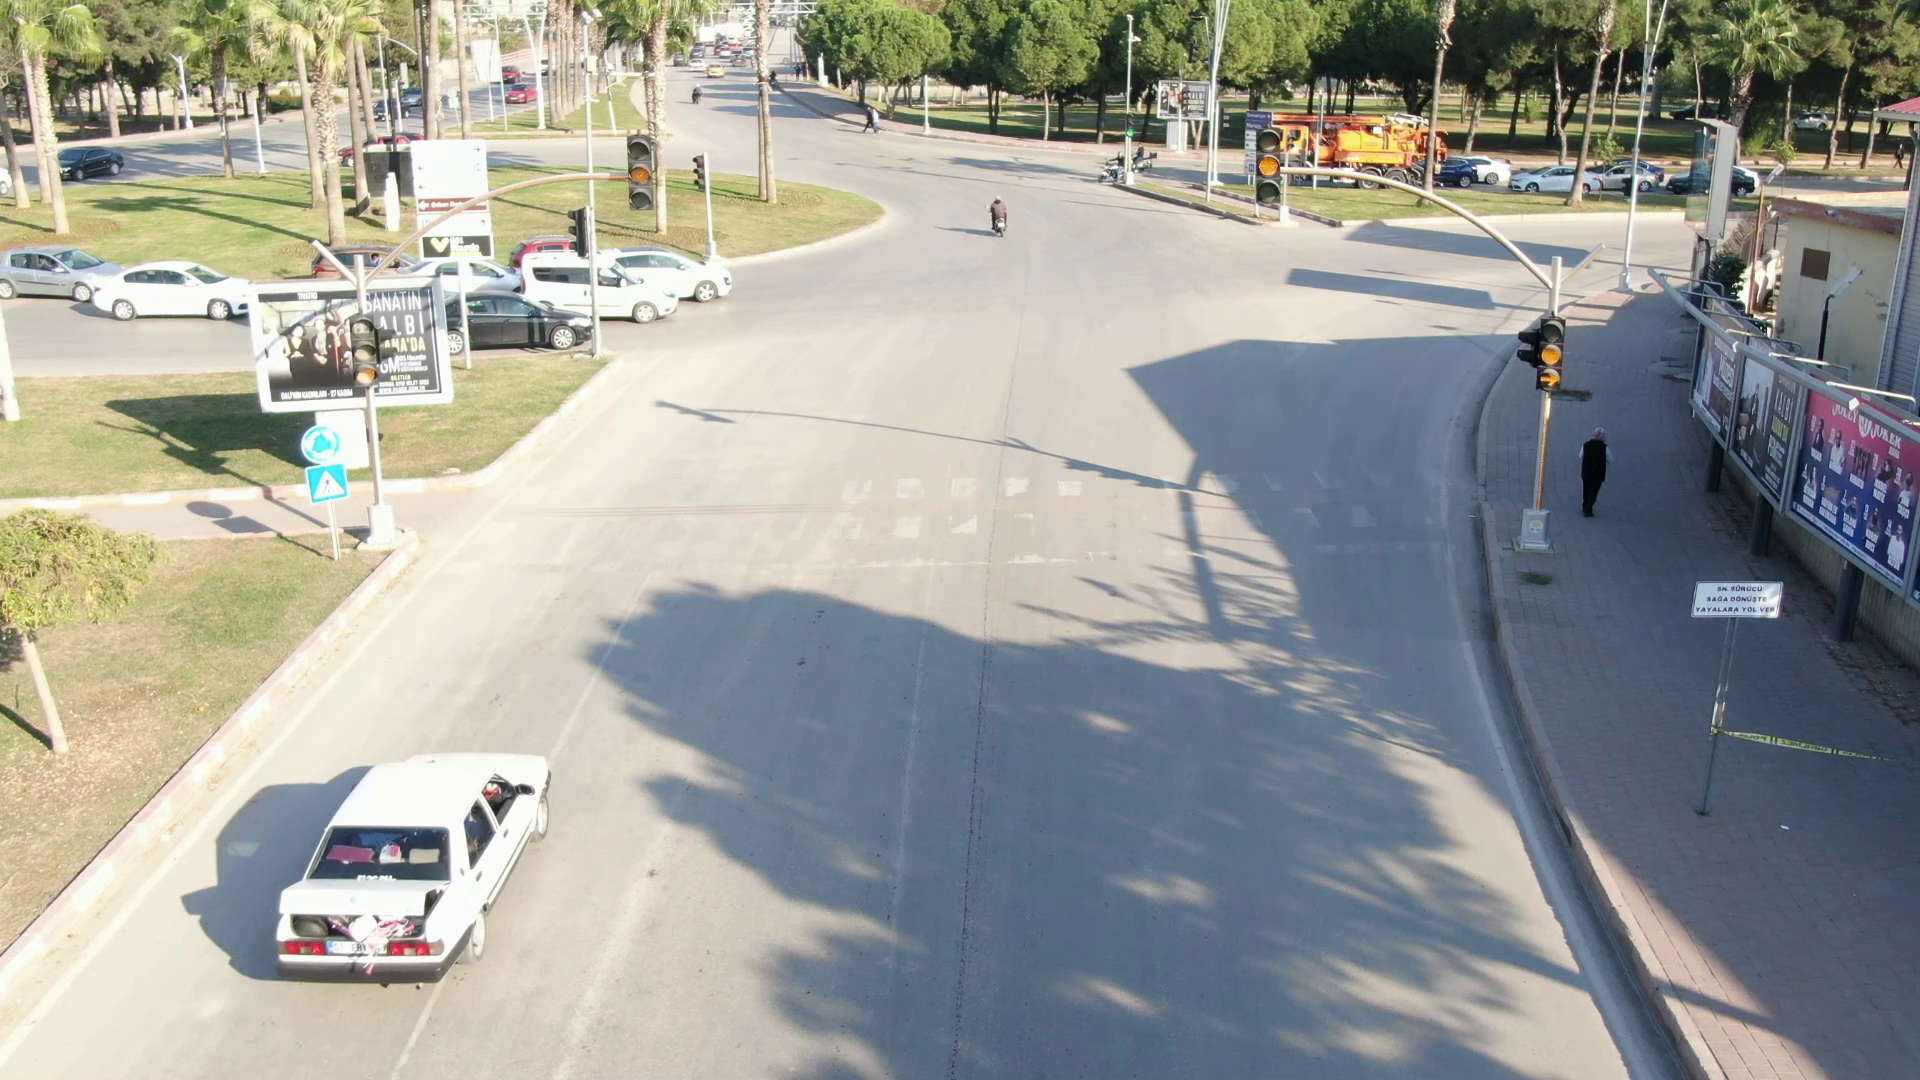car: (243, 710, 557, 974), (486, 243, 692, 317), (86, 265, 251, 314)
person: (1578, 417, 1619, 514), (972, 191, 1023, 241)
